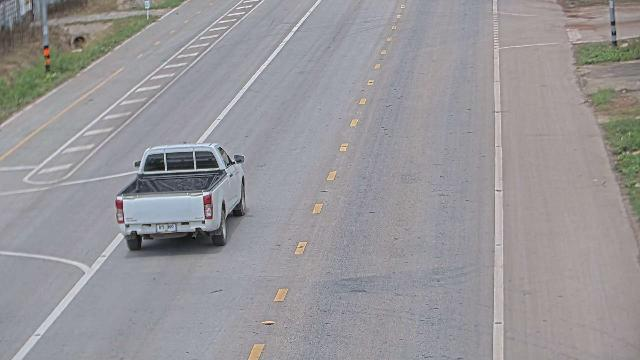pickup-truck: (114, 141, 247, 251)
